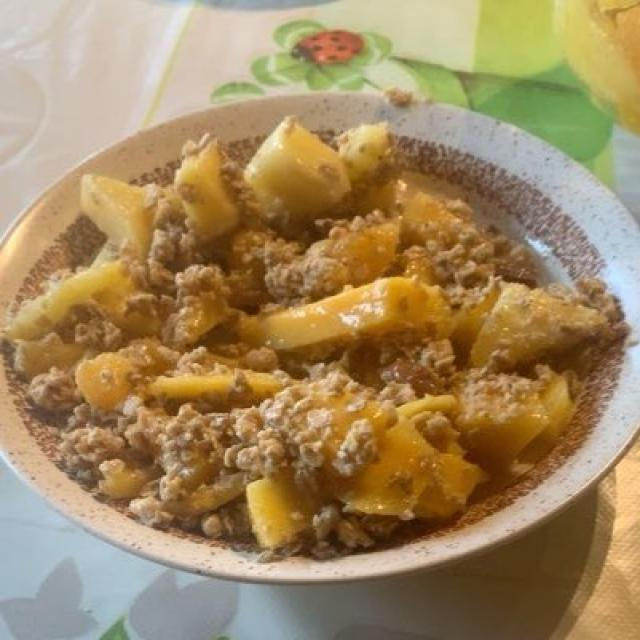fruit-salad: (21, 126, 610, 538)
muesli: (22, 126, 601, 548)
